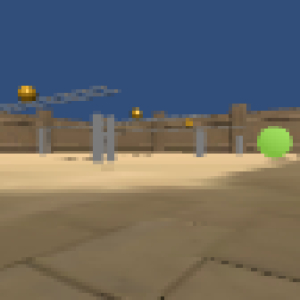goodGoal: (255, 126, 293, 160)
goodGoalMulti: (16, 83, 38, 103), (128, 106, 143, 120), (184, 117, 193, 128)
wall: (93, 113, 106, 165), (106, 113, 117, 164), (40, 128, 54, 155), (196, 128, 207, 158), (232, 134, 245, 157)
